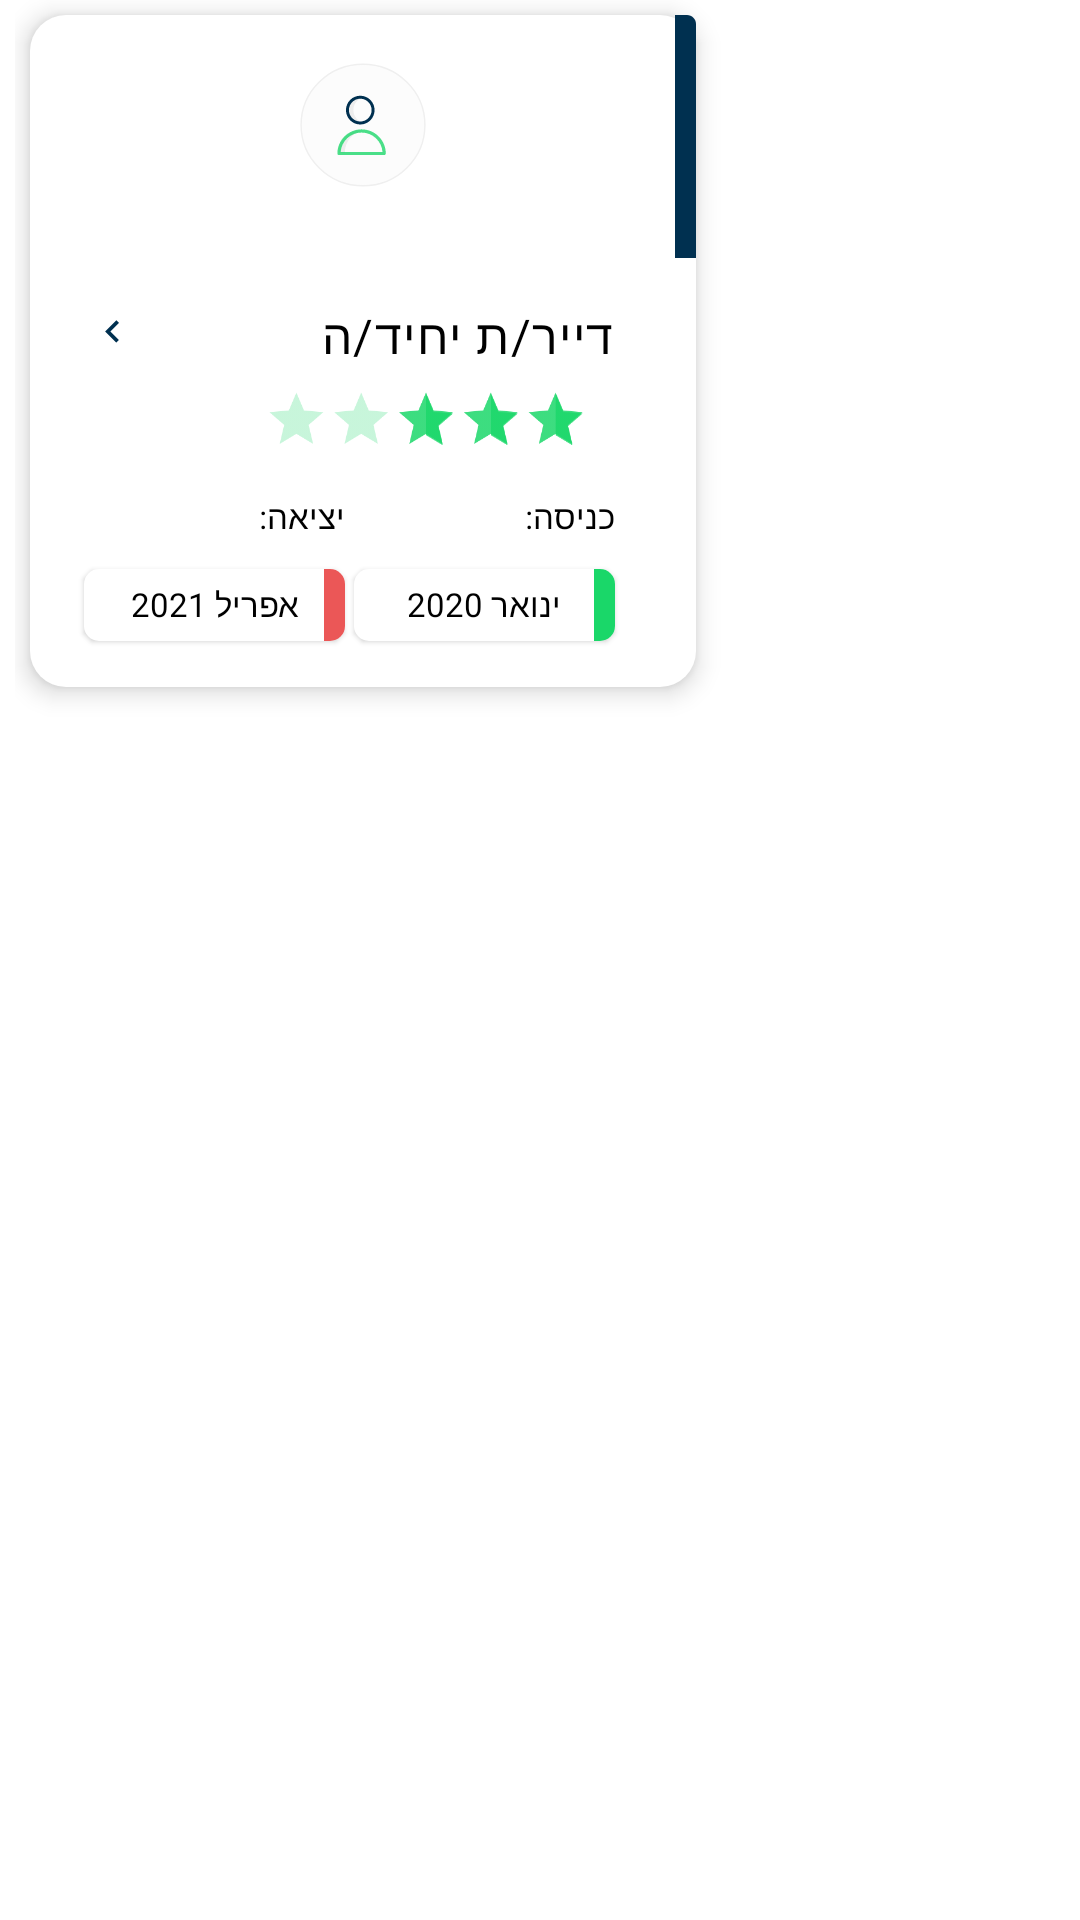

Point at icon controls on the screen. Image size 1080w x 1920h, points as [x,y].
single tenant: [361,125]
